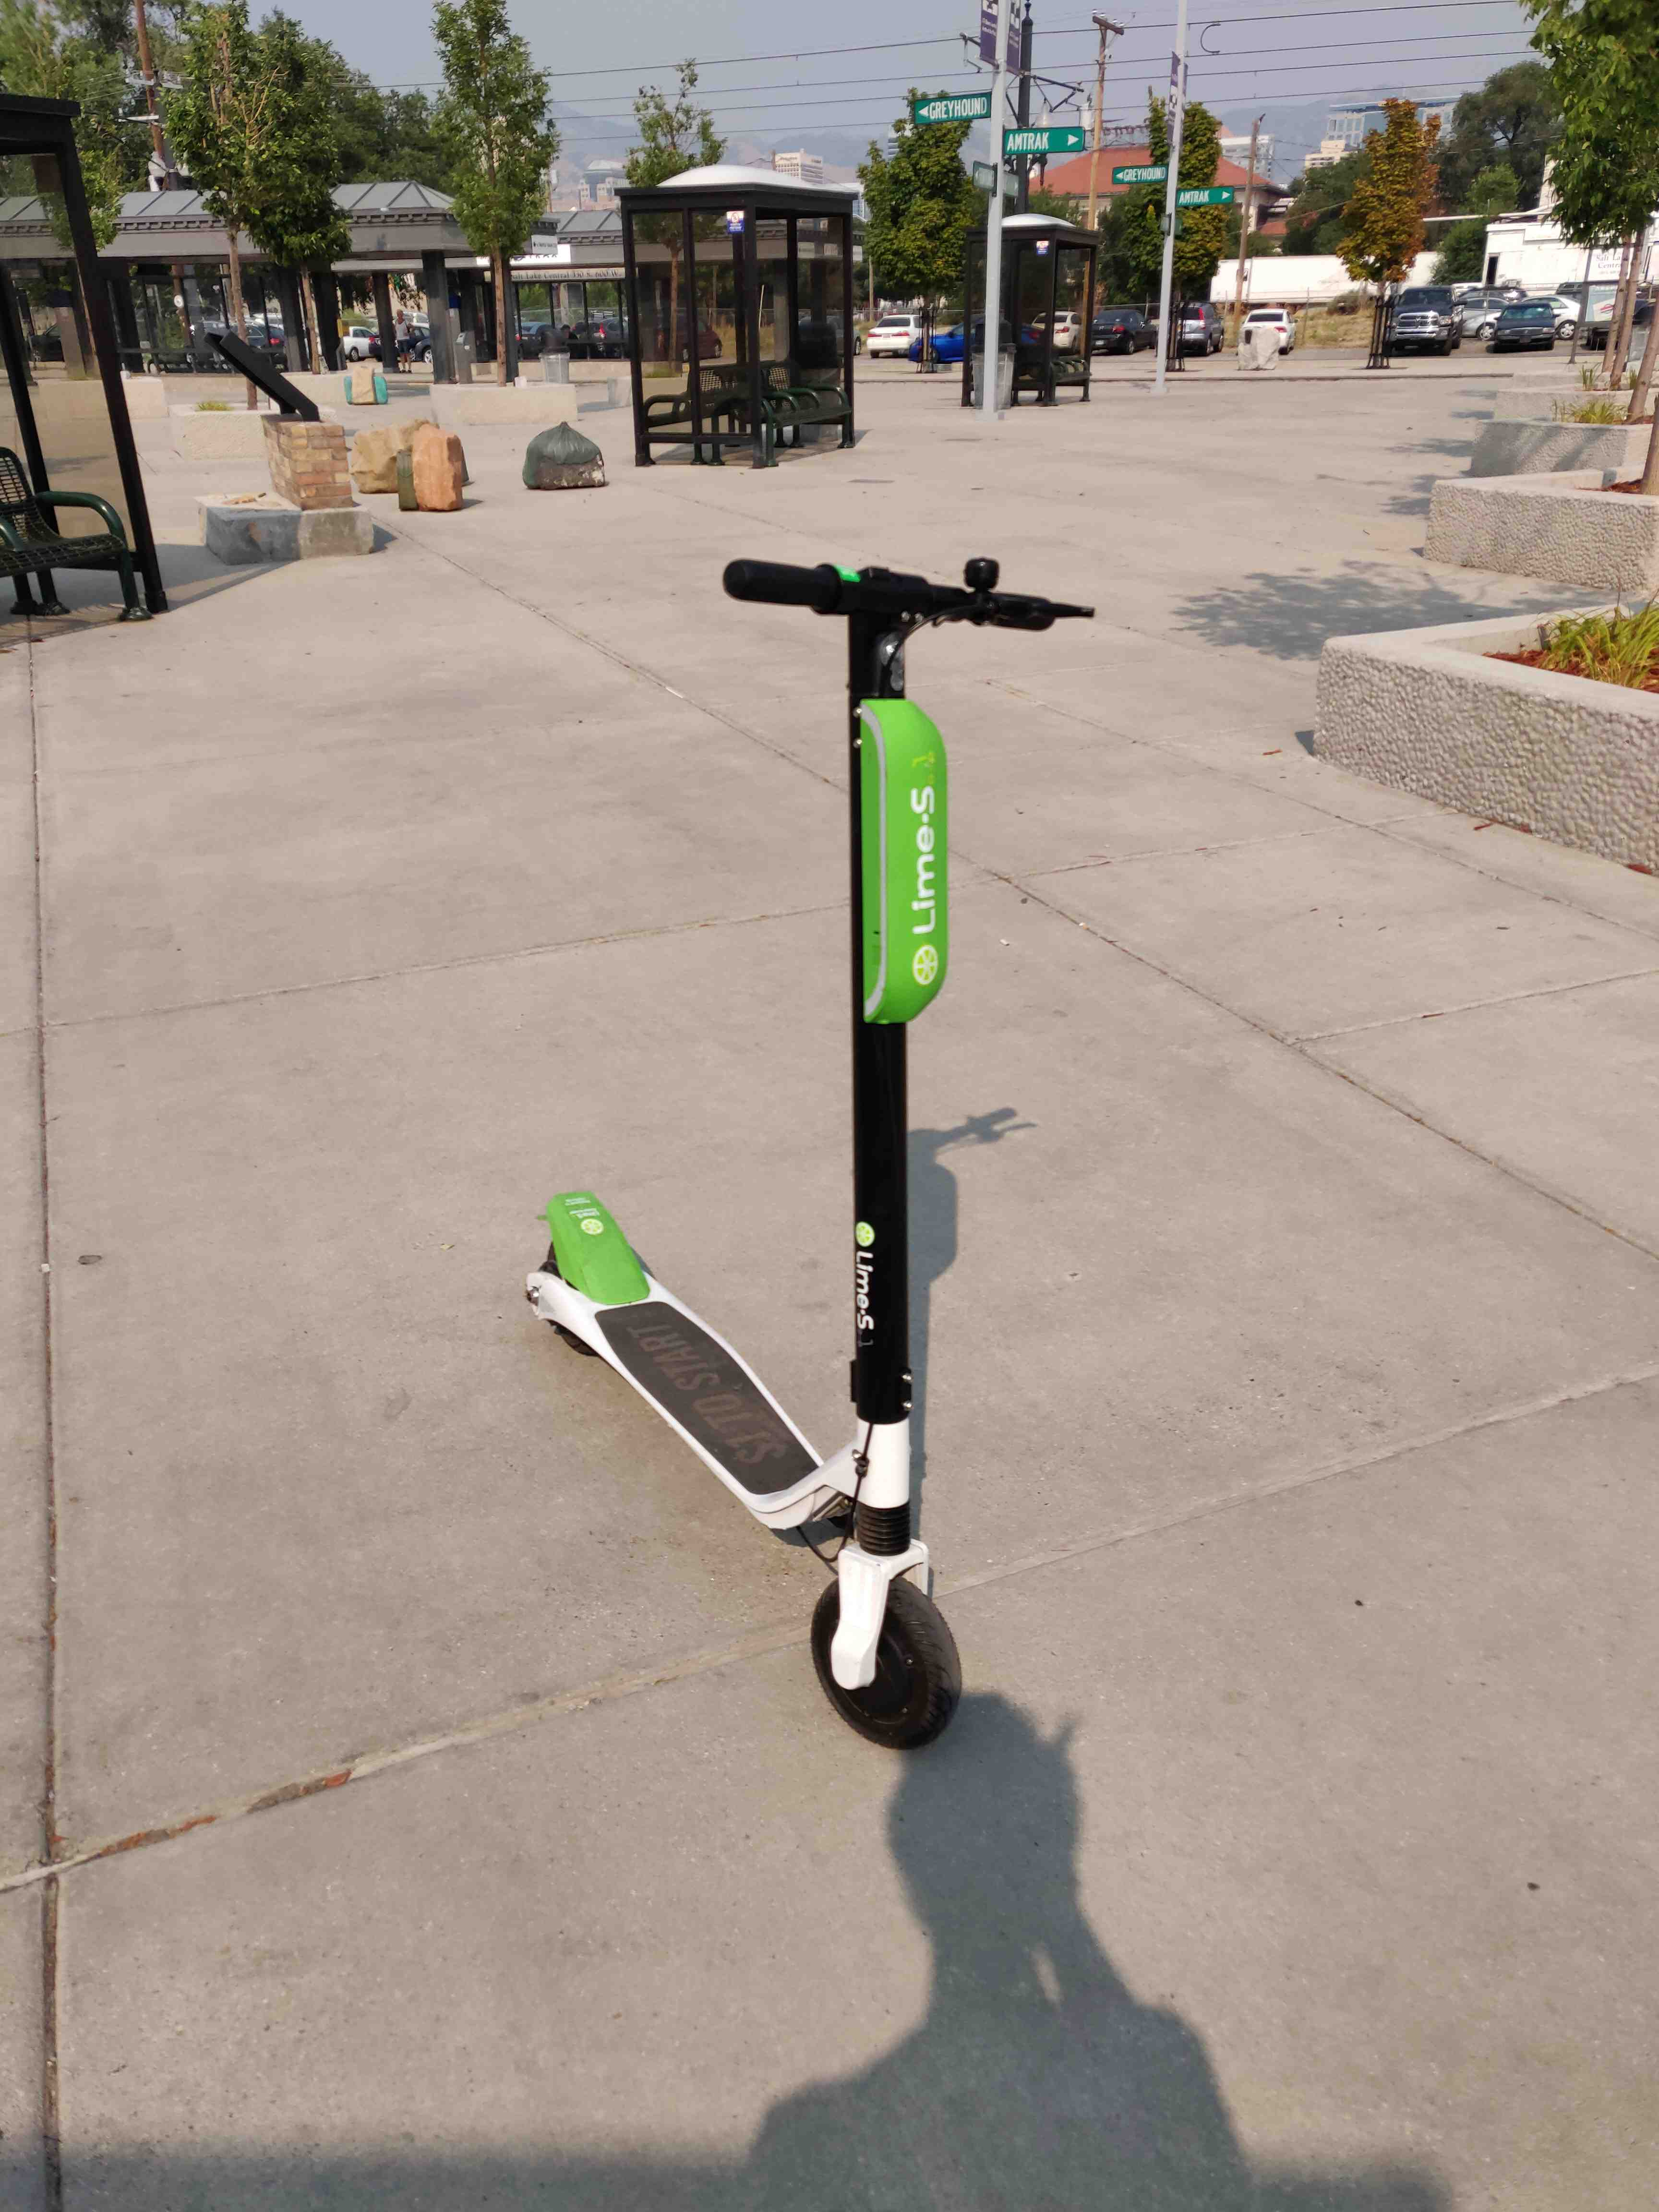scooter: (467, 519, 1086, 1731)
